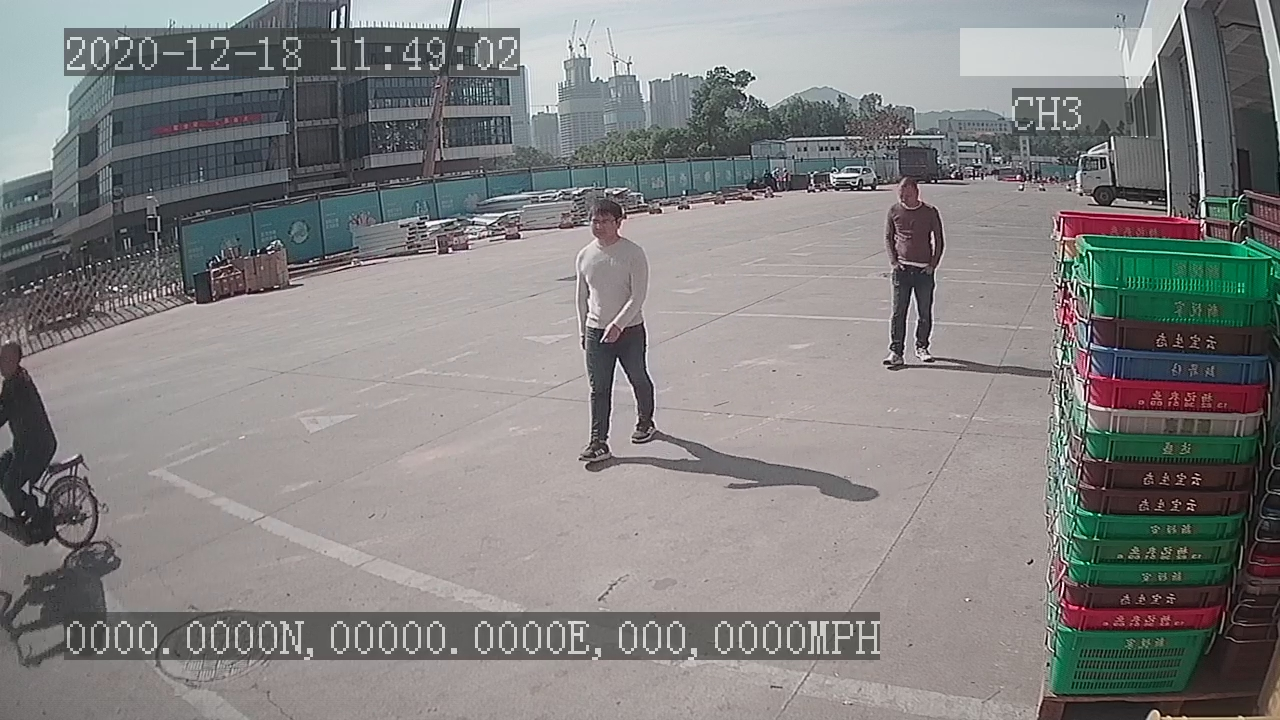person: (572, 195, 658, 472), (879, 172, 947, 372)
